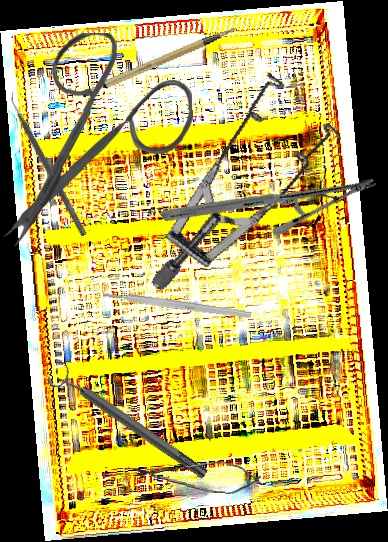Fixation Ring: (45, 357, 213, 489)
Iris Scissors: (0, 31, 195, 248)
Micro Scissor: (130, 457, 264, 496)
Needle Holder: (158, 96, 379, 303)
Scalpel Handle: (75, 25, 246, 101), (102, 289, 252, 320)
Spatula Surgical: (3, 89, 94, 237)
Speculum: (101, 56, 369, 293)
